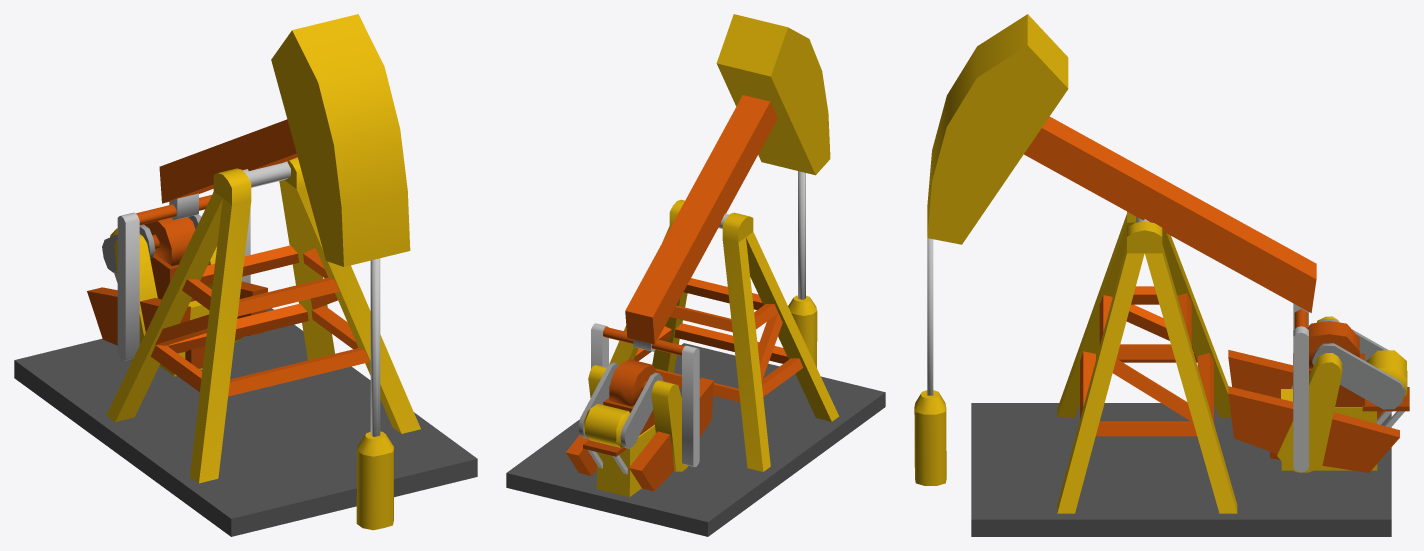
The model's file is oil_pump.fbx.
The picture shows the model from 3 angles, left to right: view 1: azimuth 30°, elevation 25°; view 2: azimuth 150°, elevation 25°; view 3: azimuth 270°, elevation 25°; orthographic projection. The views are drawn at different scales.
Parts seen in each view (by area): view 1: oil_pump_01.001; view 2: oil_pump_01.001; view 3: oil_pump_01.001.
Part boxes in pixels (x1=…): oil_pump_01.001: x1=14, y1=14, x2=477, y2=536; oil_pump_01.001: x1=506, y1=14, x2=885, y2=536; oil_pump_01.001: x1=914, y1=14, x2=1409, y2=536.
Bounding box in the file's own units: 4847 × 2699 × 4851.
